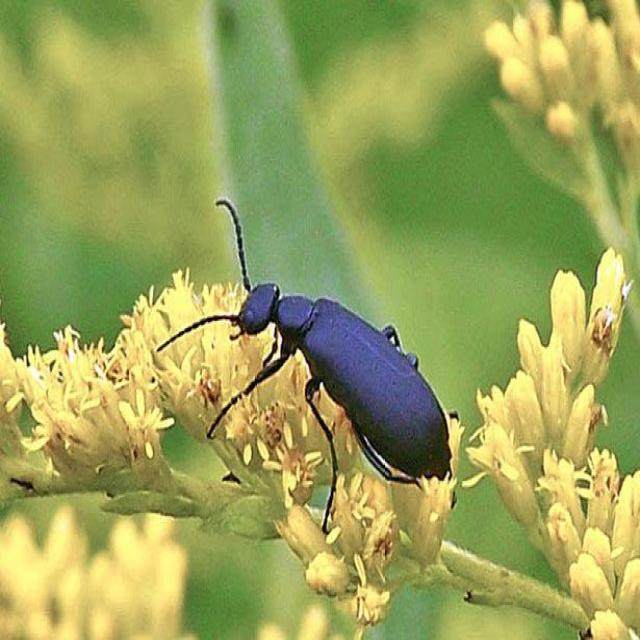BlisterBeetle-Adult-: (151, 187, 462, 543)
